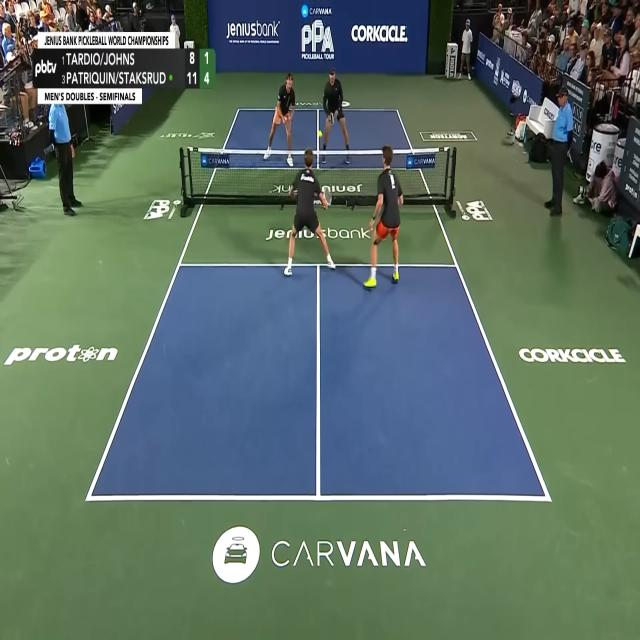ball: (318, 130, 323, 138)
